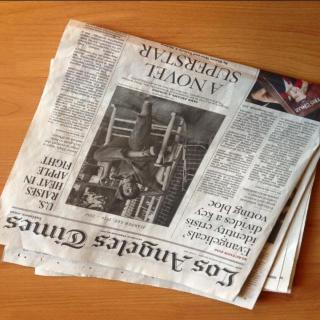Anorganik: (7, 28, 315, 293)
